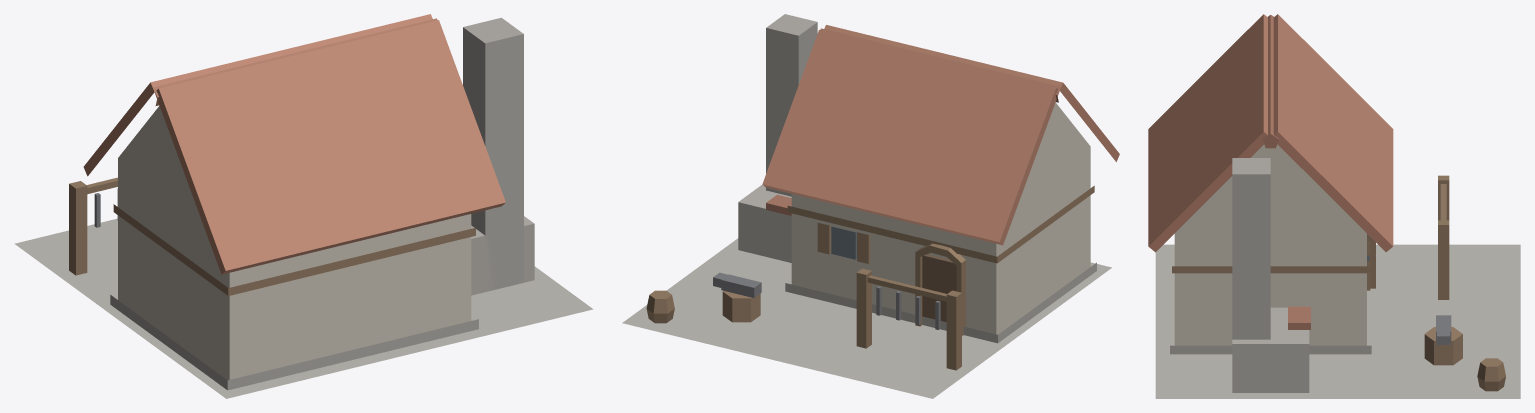
Rendered from toolmaker.glb.
The picture shows the model from 3 angles, left to right: view 1: azimuth 30°, elevation 25°; view 2: azimuth 150°, elevation 25°; view 3: azimuth 270°, elevation 25°; orthographic projection. The views are drawn at different scales.
Visible parts, largest first — view 1: toolmaker; view 2: toolmaker; view 3: toolmaker.
Part boxes in pixels (x1,y1,x2,y2): toolmaker: (14, 14, 593, 398); toolmaker: (622, 14, 1119, 398); toolmaker: (1148, 14, 1520, 398).
Size of the model in its own units: 1.94 by 1.33 by 1.94.
